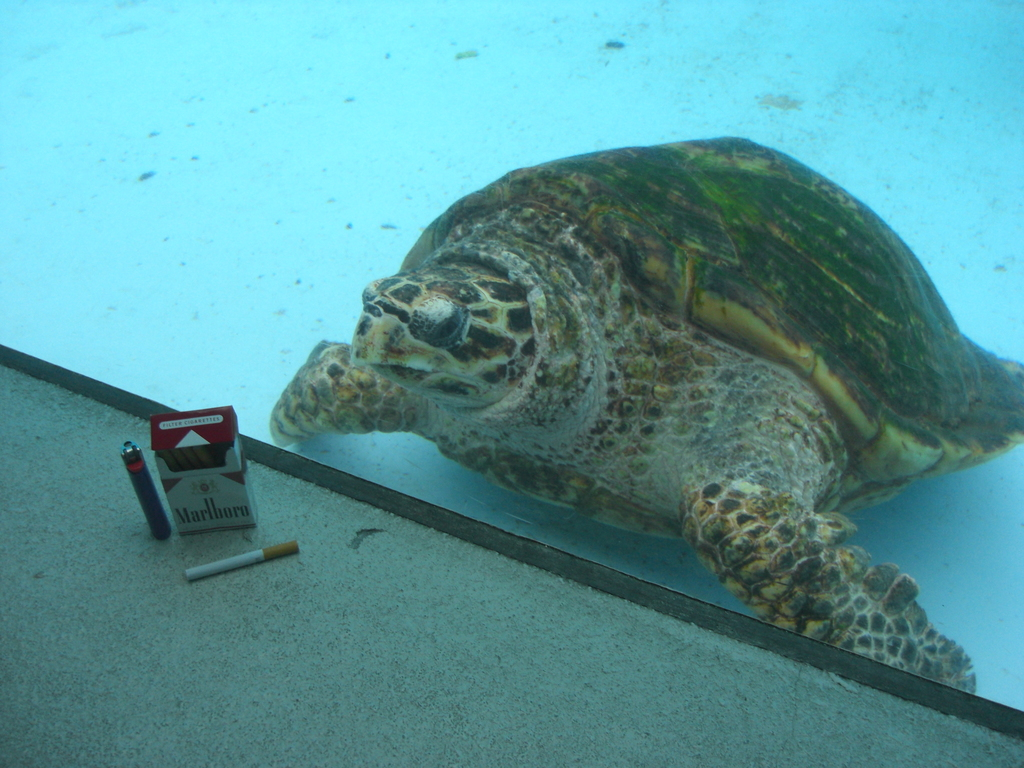Sea turtles: (270, 129, 1023, 695)
